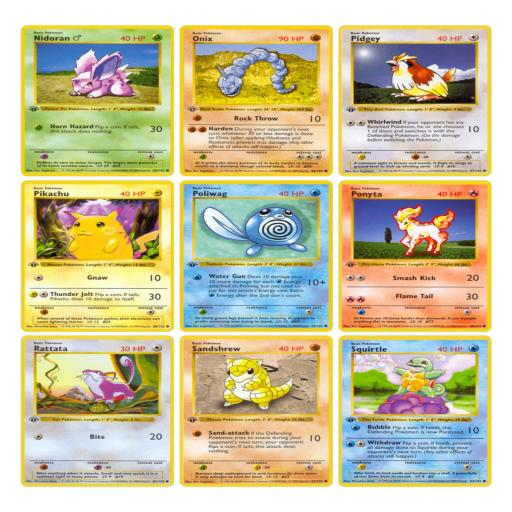card: (334, 20, 494, 177), (179, 335, 334, 488), (20, 335, 176, 487), (179, 25, 334, 177), (338, 335, 493, 487), (179, 180, 333, 332), (21, 180, 175, 332), (339, 180, 491, 332), (21, 25, 173, 176)
